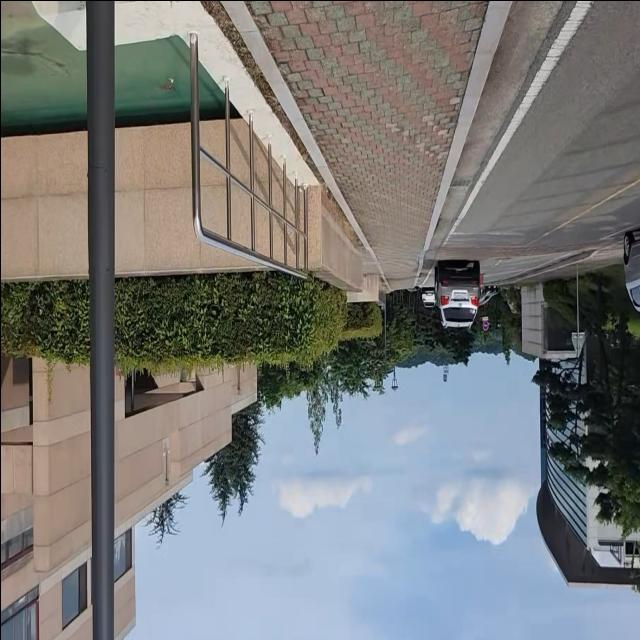obstacle: (83, 0, 117, 640), (428, 260, 487, 346)
road: (419, 0, 640, 285), (613, 220, 640, 322)
sidewalk: (221, 0, 506, 288)
